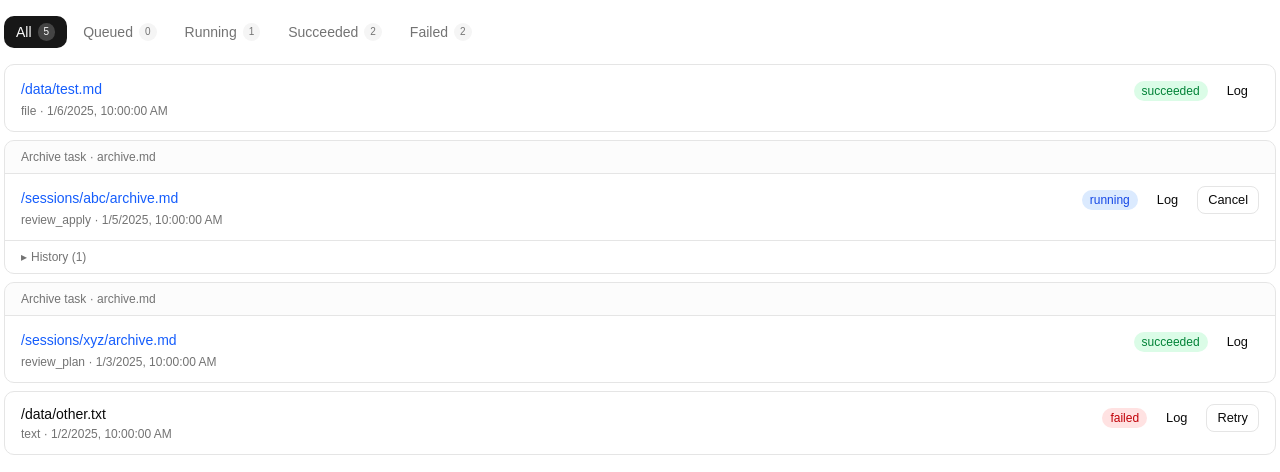
Scenario: JobsPage integration › shows empty message when no jobs match filter
# Click "Queued" filter - no jobs have queued status
Click the button "Queued 0" at (120, 32), box x1=71 y1=16 x2=168 y2=48
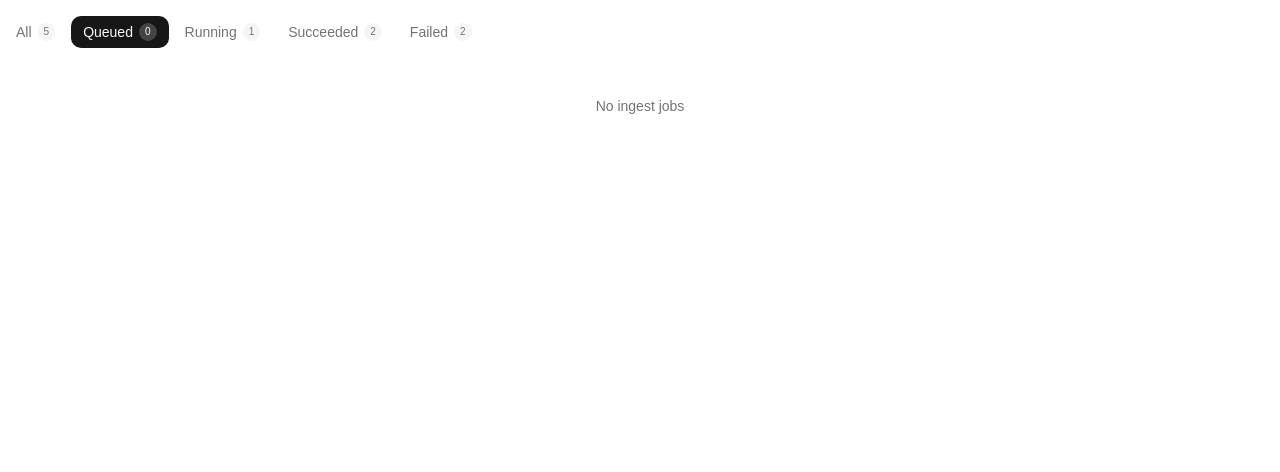
Result: the text "No ingest jobs" is shown at x1=596 y1=98 x2=684 y2=114
